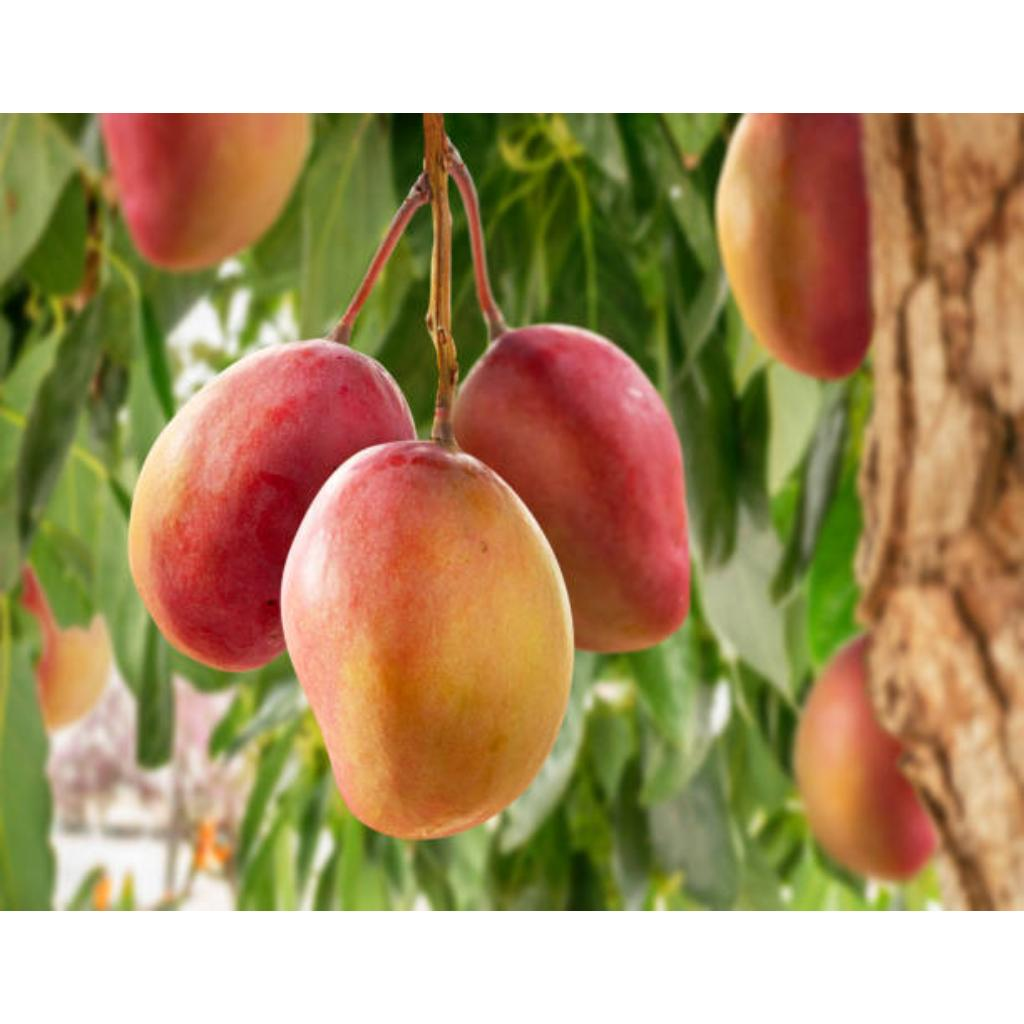mango: (282, 441, 574, 838), (128, 339, 416, 671), (454, 325, 690, 650)
